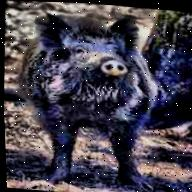boar: (9, 4, 181, 188)
